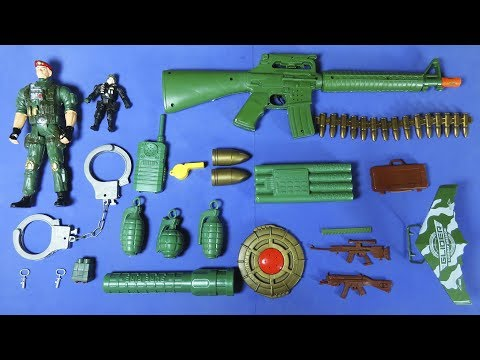Arma Falsa: (163, 52, 465, 141)
